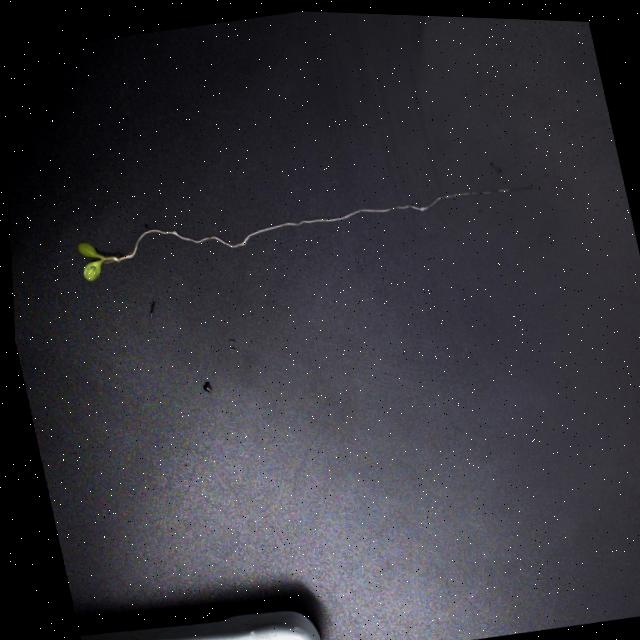leaf: (84, 259, 103, 280), (78, 242, 100, 257)
root: (121, 186, 530, 259)
stem: (101, 255, 120, 262)
